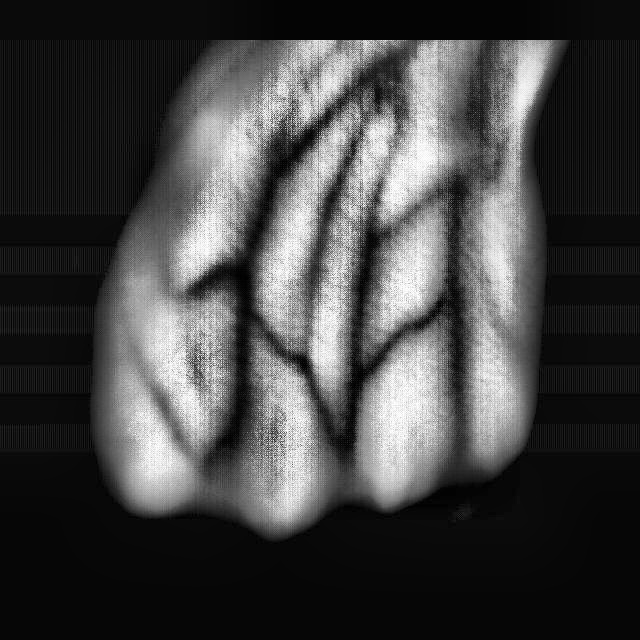Vein: (230, 106, 340, 270)
